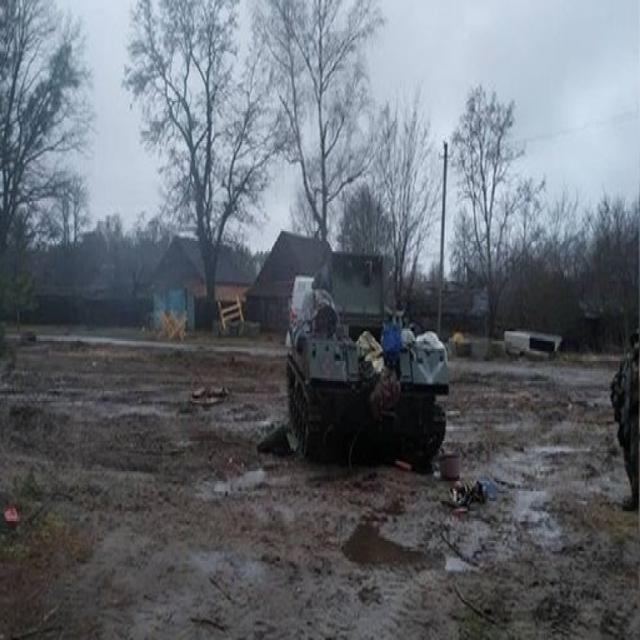APC-IFV: (271, 247, 451, 476)
